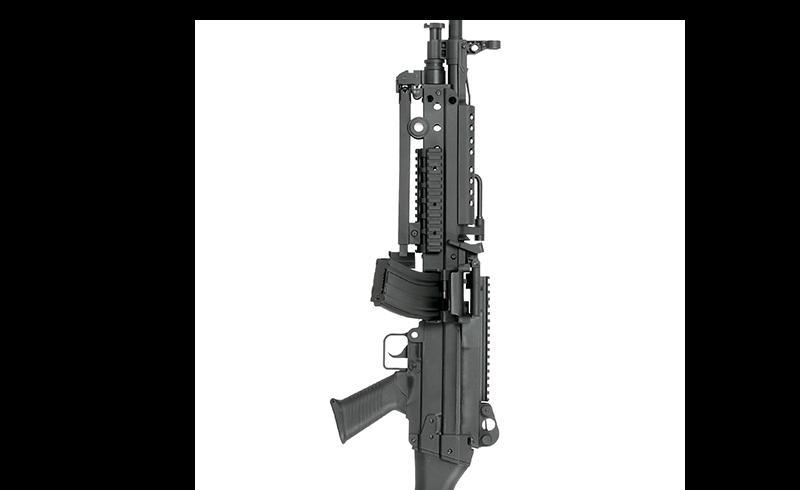larga: (330, 21, 500, 490)
